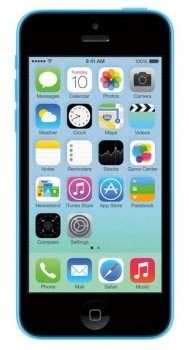Handphone: (13, 7, 177, 343)
